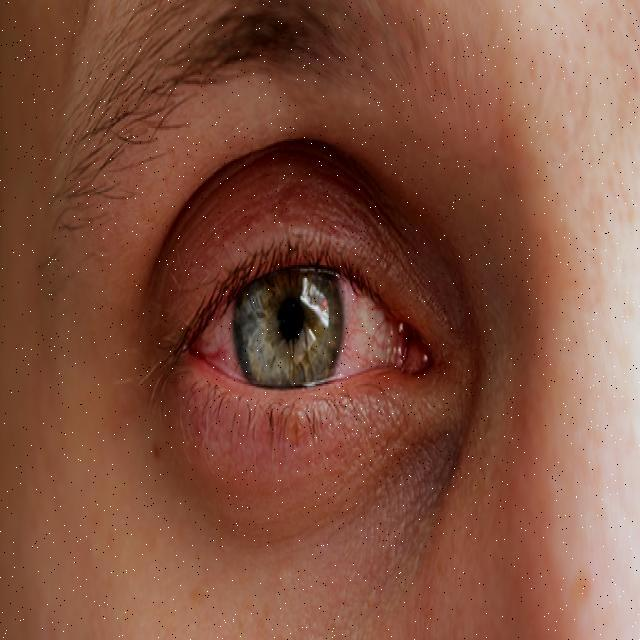Conjunctivitis: (187, 277, 436, 389)
